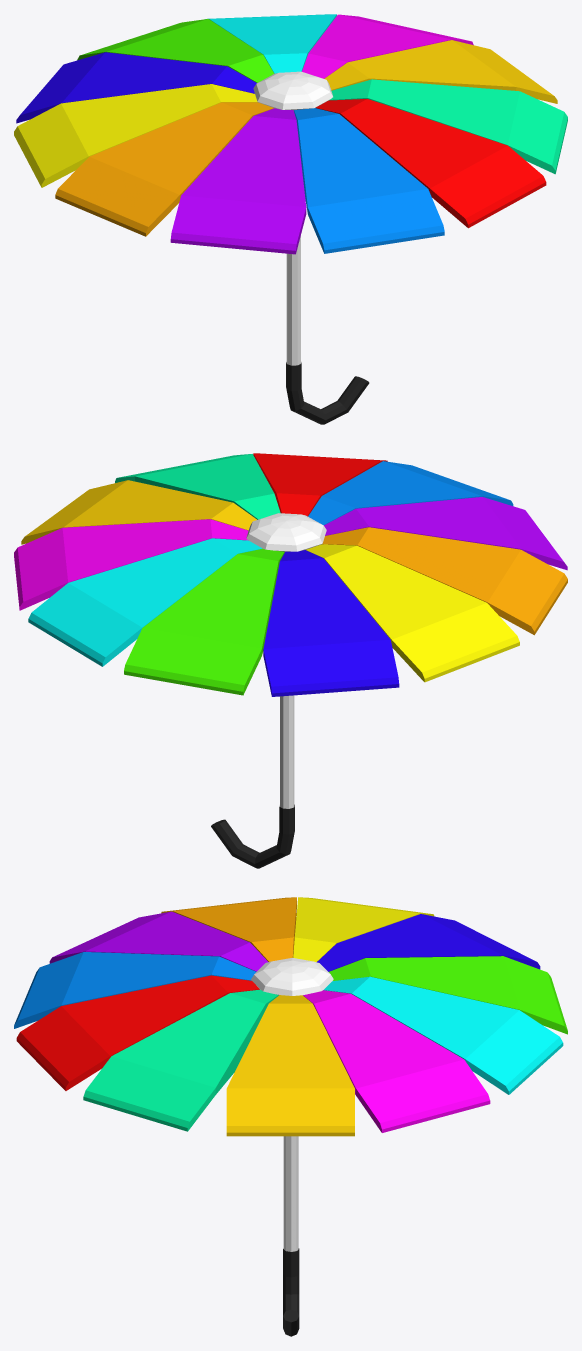
File: Umbrella_1.fbx
3 views of the same model, one above another, from view 1: azimuth 30°, elevation 25°; view 2: azimuth 150°, elevation 25°; view 3: azimuth 270°, elevation 25° (orthographic).
Visible parts, largest first — view 1: Umbrella; view 2: Umbrella; view 3: Umbrella.
Boxes of the visible parts, x1,y1,x2,y2 form: Umbrella: (14,14,567,424); Umbrella: (14,453,567,868); Umbrella: (14,897,567,1336).
Bounding box in the file's own units: 5.91 × 4.19 × 5.99.
